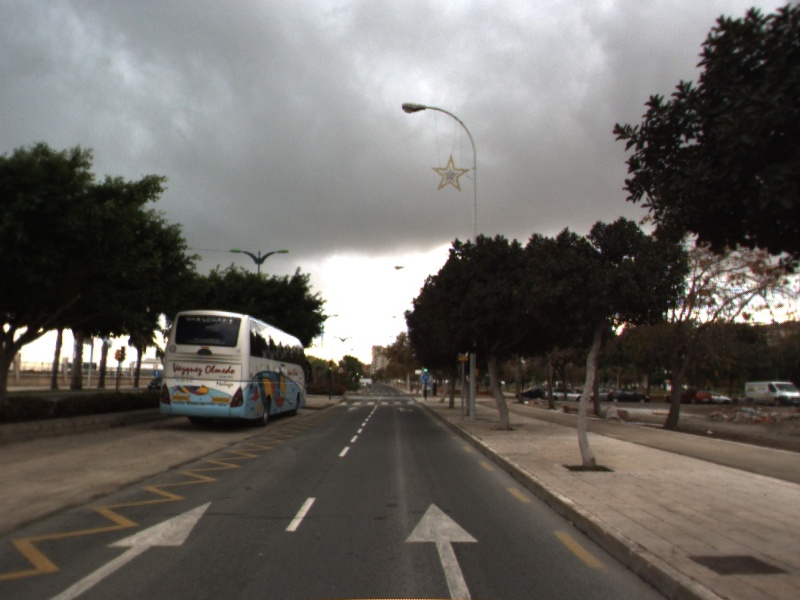STRAIGHT: (42, 498, 215, 600), (403, 499, 481, 600)
